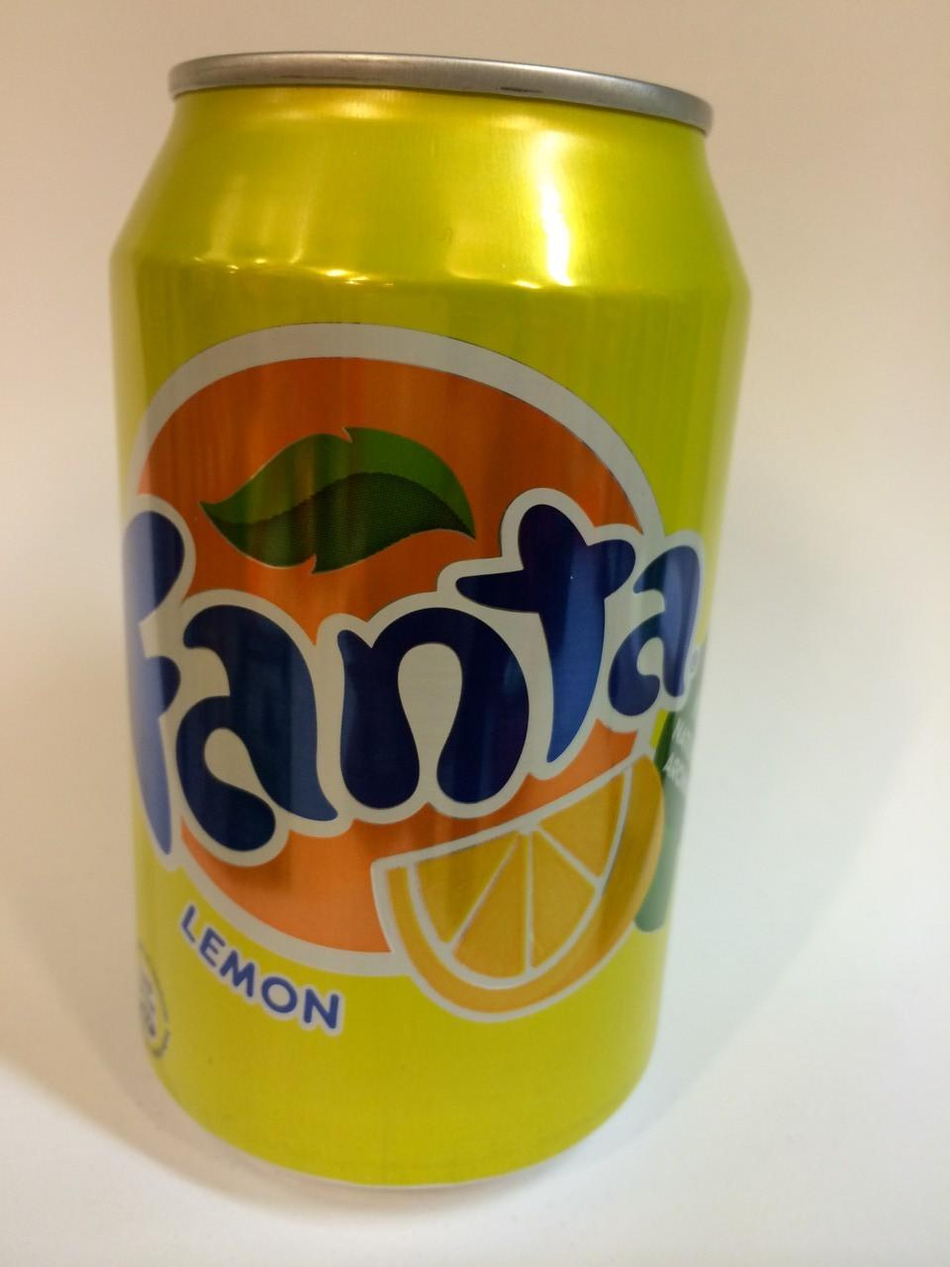metal: (111, 51, 749, 1186)
